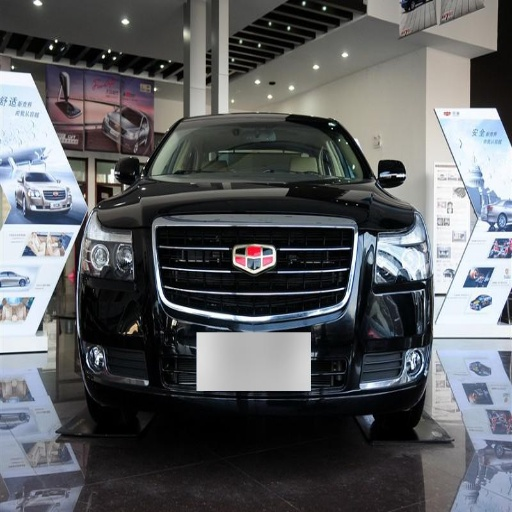front_bumper: (77, 216, 428, 418)
front_right_light: (81, 216, 137, 282)
hood: (103, 173, 407, 232)
